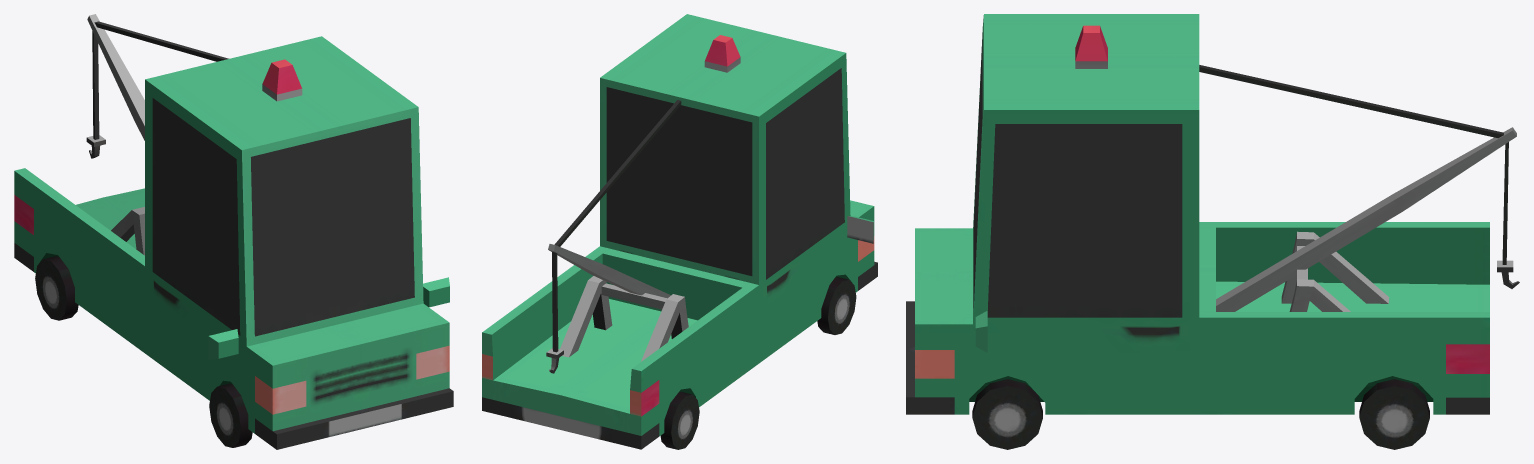
Rendered from tow_aqua.FBX.
The picture shows the model from 3 angles, left to right: view 1: azimuth 30°, elevation 25°; view 2: azimuth 150°, elevation 25°; view 3: azimuth 270°, elevation 25°; orthographic projection. The views are drawn at different scales.
Parts seen in each view (by area): view 1: tow_aqua; view 2: tow_aqua; view 3: tow_aqua.
Part boxes in pixels (bbox=[...]): tow_aqua: bbox=[14, 14, 453, 449]; tow_aqua: bbox=[482, 14, 877, 449]; tow_aqua: bbox=[906, 14, 1519, 449].
Bounding box in the file's own units: 3.16 × 4.16 × 6.28.
